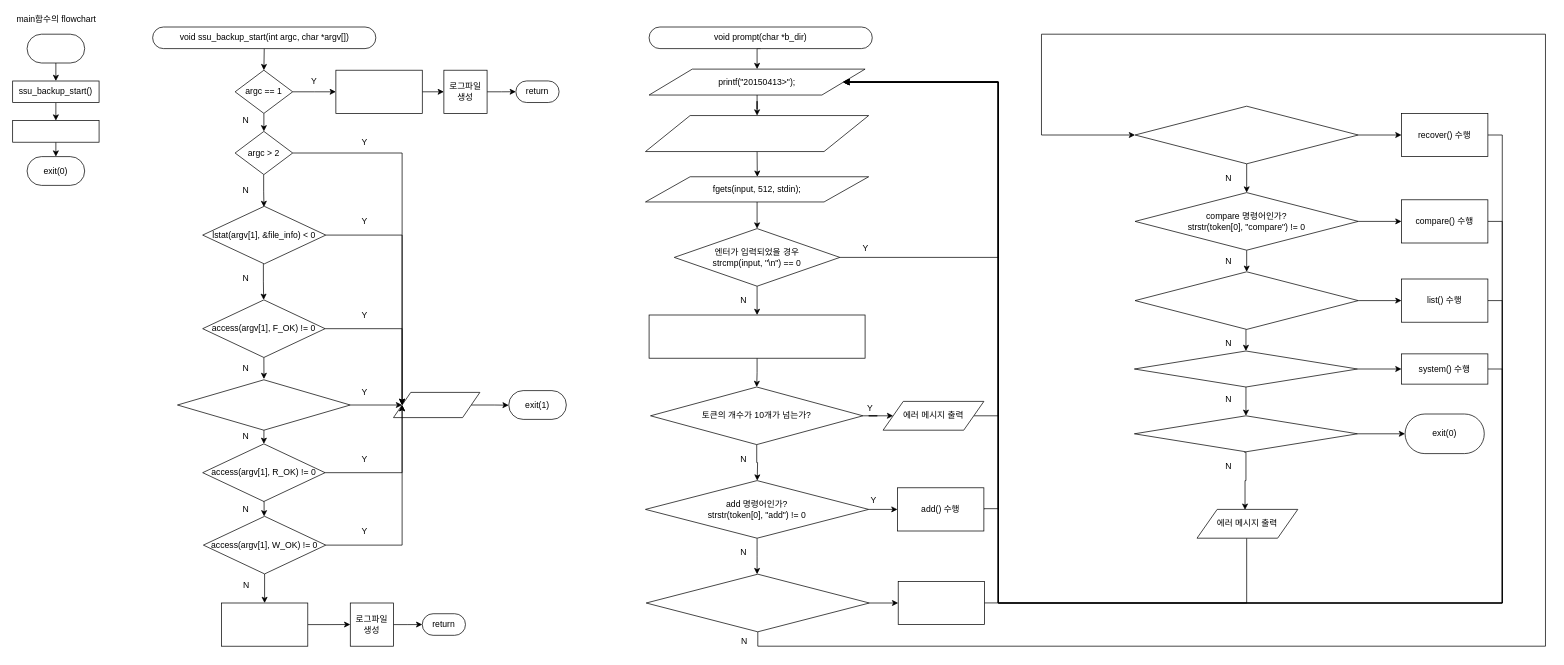
Image size: 1564x665. Some labels were removed from this diagram. Here are the shapes that lost their labels. From the top down, the centre of each, then its label:
point 55,48: 시작
point 378,91: 현재 작업중인 디렉토리 밑에 백업 디렉토리 생성
point 55,131: prompt()
point 757,133: char input[512]; char input_o[512]; char *token[10];
point 1246,134: recover 명령어인가? strstr(token[0], "recover") != 0
point 1246,300: list 명령어인가? strstr(token[0], "list") != 0
point 756,336: 공백을 기준으로 input을 토큰분리 token[]에 저장
point 1246,368: ls, vi, vim 명령어인가?
point 263,404: !(S_ISDIR(file_info.st_mode))
point 436,405: usage 출력
point 1246,433: exit 명령어인가?
point 757,602: remove 명령어인가? strstr(token[0], "remove") != 0
point 941,603: removes() 수행
point 264,624: 인자로 받은(argv[1]) 디렉토리 밑에 백업 디렉토리 생성
